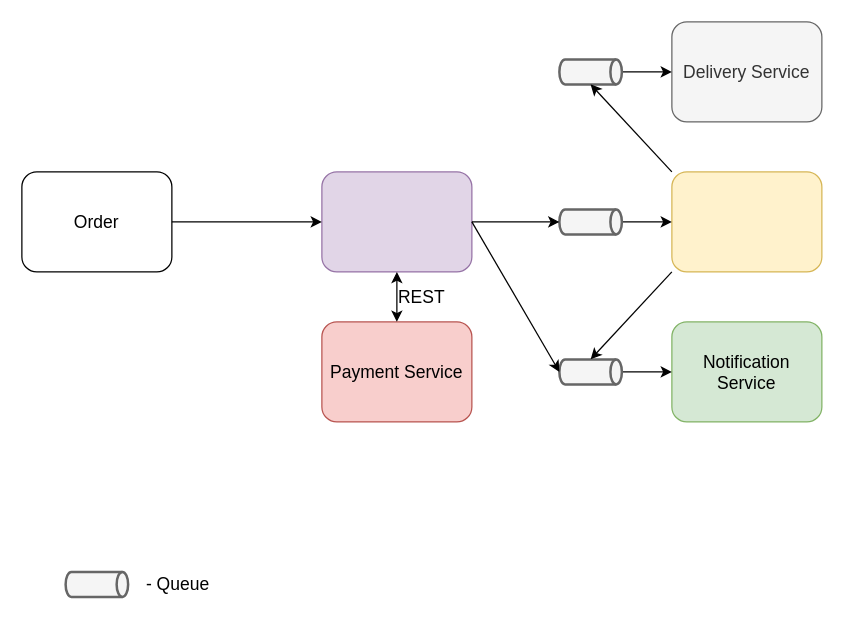
The diagram is 844 pixels wide and 620 high, and some of its shapes have lost their labels. The box of each missing label's shape, as (x1, y1, x2, y2) in pixels:
Kitchen Service: (671, 171, 822, 272)
Order Service: (321, 171, 472, 272)
